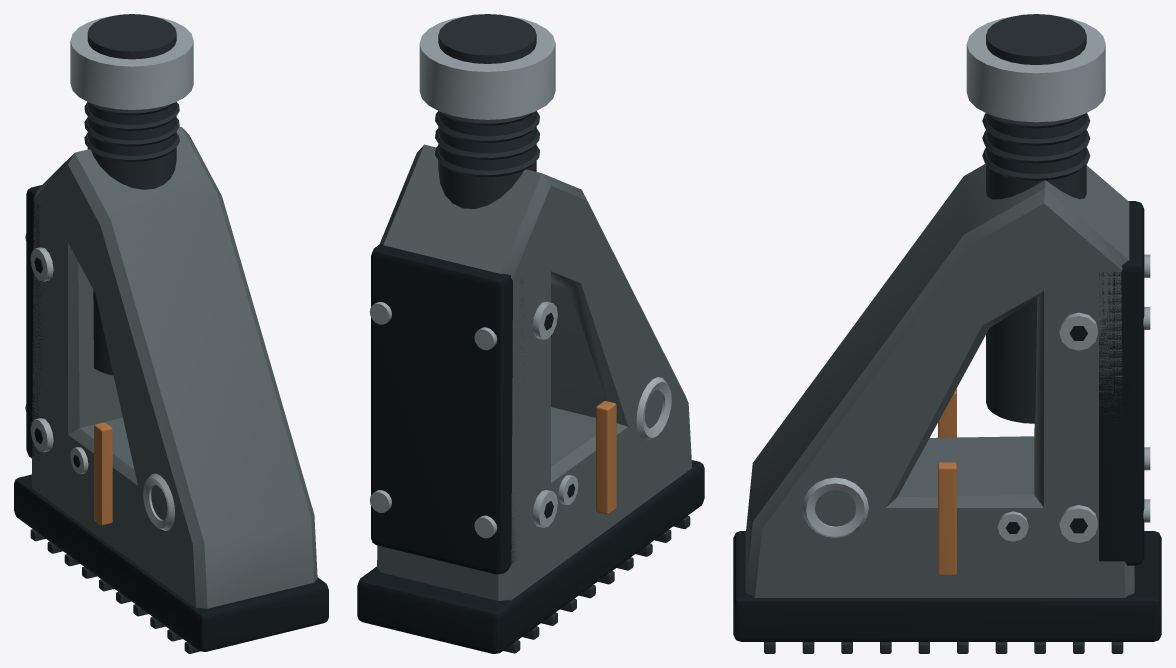
The model's file is stock-2.glb.
3 views of the same model, side by side, from view 1: azimuth 30°, elevation 25°; view 2: azimuth 150°, elevation 25°; view 3: azimuth 270°, elevation 25° (orthographic). The views are drawn at different scales.
Visible parts, largest first — view 1: 01_Cerakote.011, 04_Elastomer.013, 02_Graphite.013, 03_Titanium.013, 05_Copper.004; view 2: 04_Elastomer.013, 01_Cerakote.011, 02_Graphite.013, 03_Titanium.013, 05_Copper.004; view 3: 01_Cerakote.011, 04_Elastomer.013, 02_Graphite.013, 03_Titanium.013, 05_Copper.004.
Part boxes in pixels (left/top/right/bottom): 01_Cerakote.011: left=32, top=126, right=317, bottom=608; 04_Elastomer.013: left=14, top=185, right=328, bottom=651; 02_Graphite.013: left=30, top=14, right=199, bottom=653; 03_Titanium.013: left=25, top=16, right=193, bottom=530; 05_Copper.004: left=94, top=422, right=112, bottom=525; 04_Elastomer.013: left=357, top=243, right=704, bottom=653; 01_Cerakote.011: left=377, top=144, right=692, bottom=600; 02_Graphite.013: left=435, top=14, right=690, bottom=653; 03_Titanium.013: left=369, top=17, right=671, bottom=538; 05_Copper.004: left=596, top=401, right=616, bottom=514; 01_Cerakote.011: left=745, top=164, right=1134, bottom=597; 04_Elastomer.013: left=733, top=201, right=1161, bottom=641; 02_Graphite.013: left=764, top=14, right=1123, bottom=653; 03_Titanium.013: left=802, top=17, right=1150, bottom=542; 05_Copper.004: left=938, top=389, right=956, bottom=575.
Size of the model in its own units: 0.0455 by 0.1503 by 0.0999.
